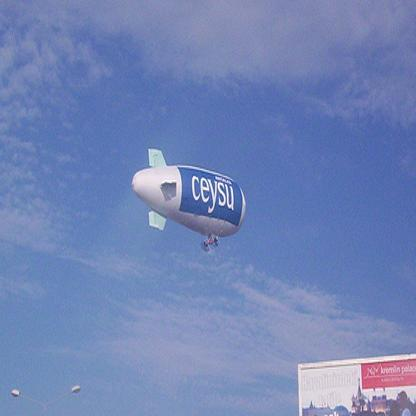Airship: (135, 144, 256, 256)
